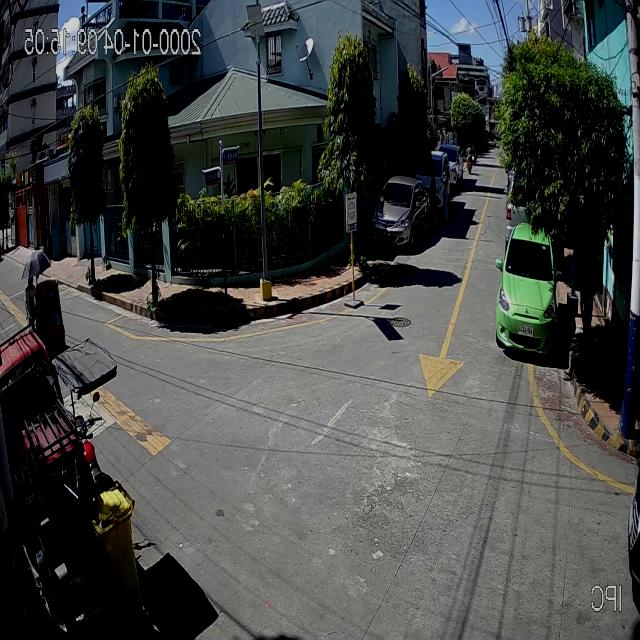standing: (426, 166, 439, 223)
walking: (440, 166, 450, 221)
